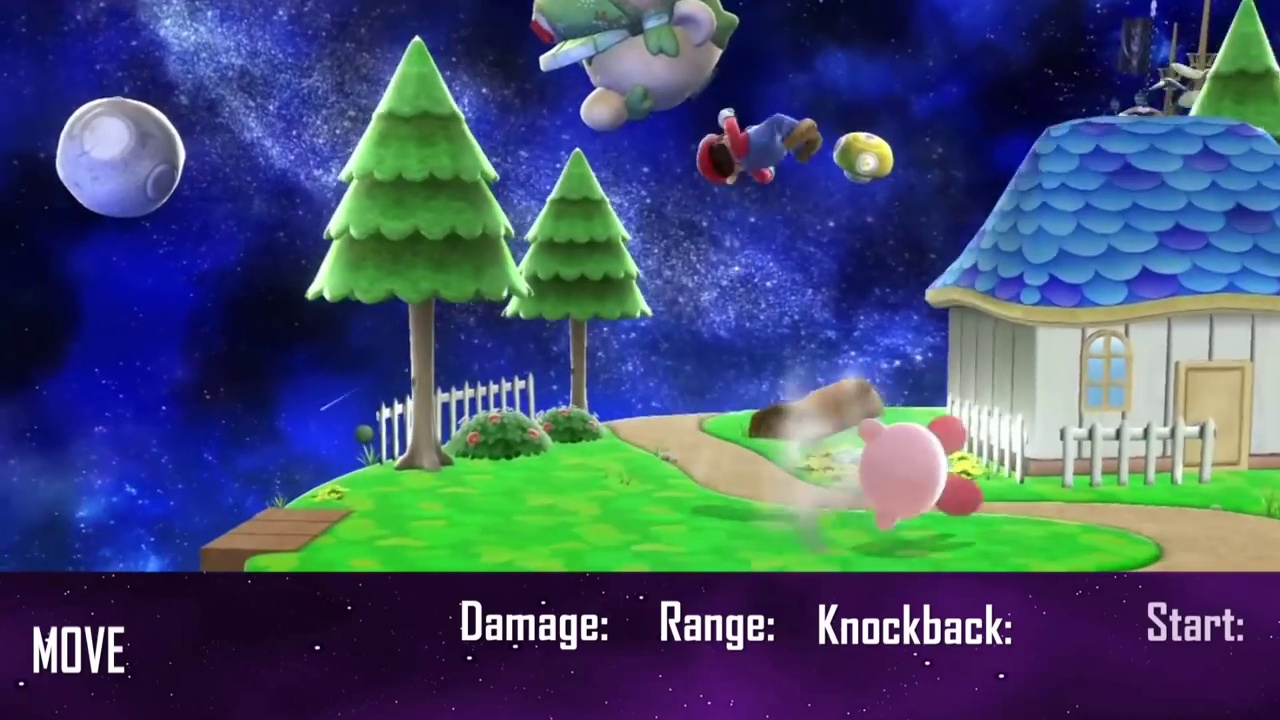Mario: (692, 109, 820, 188)
